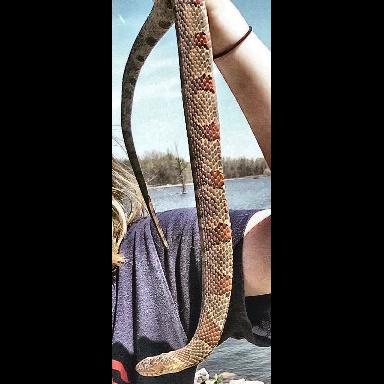snake: (112, 0, 232, 379), (139, 0, 232, 376)
